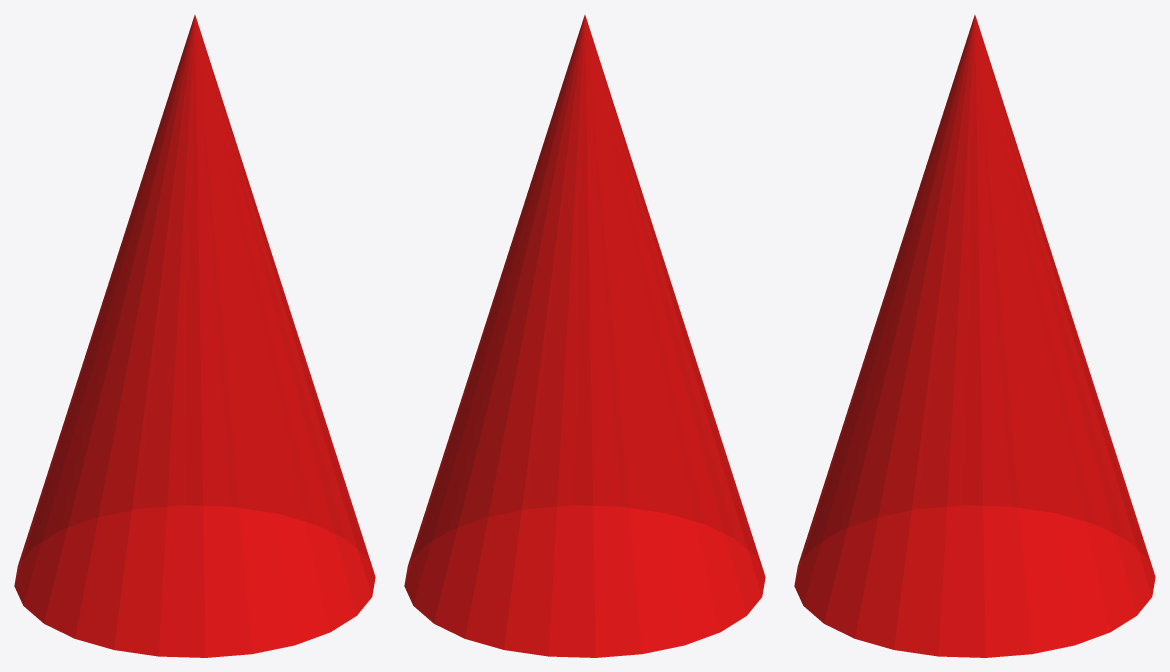
3 renders of one model, left to right at view 1: azimuth 30°, elevation 25°; view 2: azimuth 150°, elevation 25°; view 3: azimuth 270°, elevation 25°, orthographic.
Visible parts, largest first — view 1: cone; view 2: cone; view 3: cone.
Boxes of the visible parts, x1,y1,x2,y2 form: cone: (14,15,375,657); cone: (404,15,765,657); cone: (794,15,1155,657).
Bounding box in the file's own units: 121 × 121 × 210.
